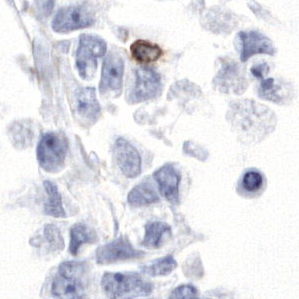Lymphocyte: (130, 36, 168, 64)
